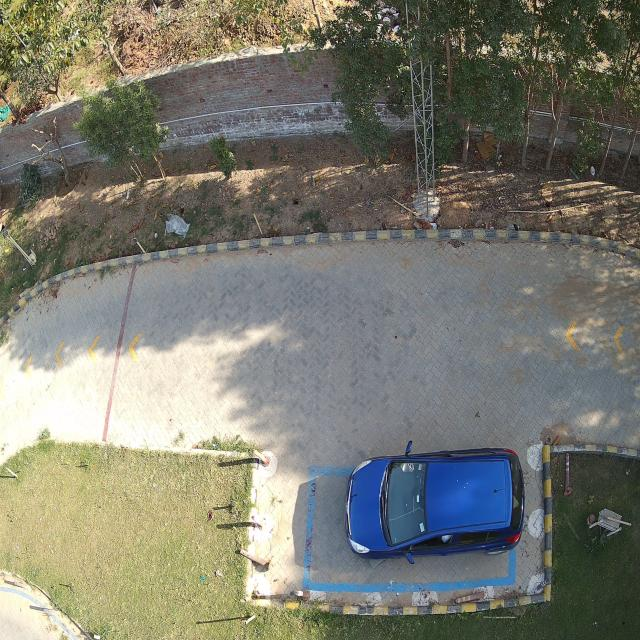car: (345, 442, 525, 563)
